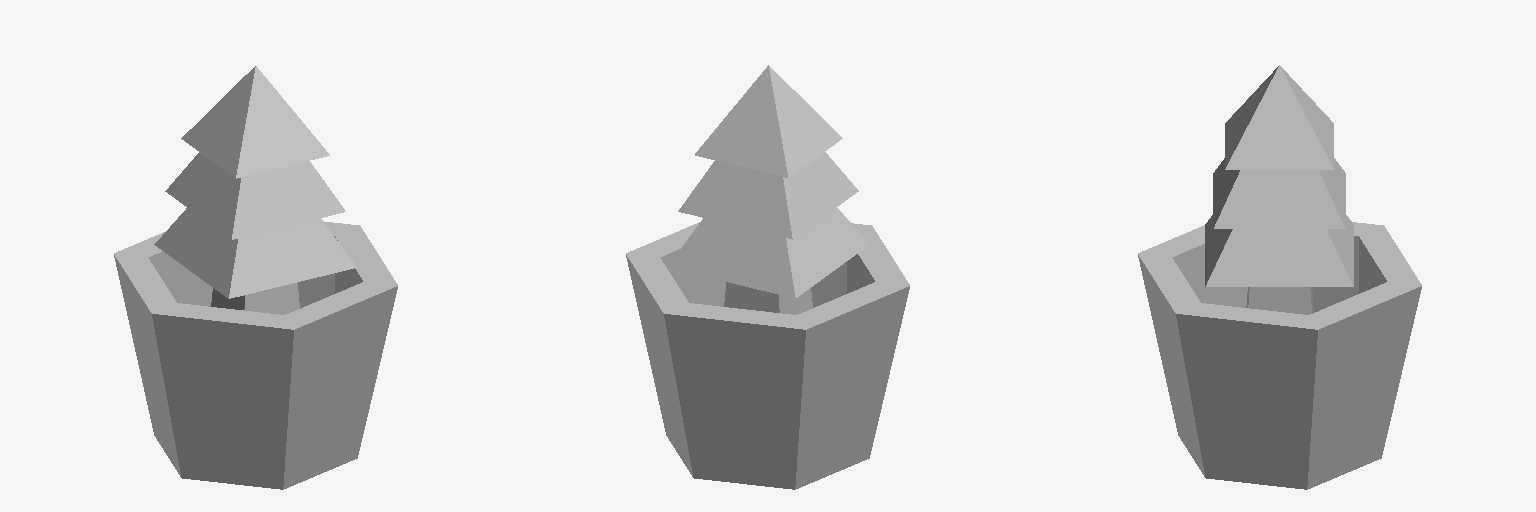
File: plantSmall1.obj
3 views of the same model, side by side, from view 1: azimuth 30°, elevation 25°; view 2: azimuth 150°, elevation 25°; view 3: azimuth 270°, elevation 25° (orthographic).
Visible parts, largest first — view 1: plantSmall1; view 2: plantSmall1; view 3: plantSmall1.
Boxes of the visible parts, x1,y1,x2,y2 form: plantSmall1: [114, 66, 397, 489]; plantSmall1: [626, 65, 909, 489]; plantSmall1: [1138, 65, 1421, 489].
Size of the model in its own units: 0.0947 by 0.14 by 0.0947.